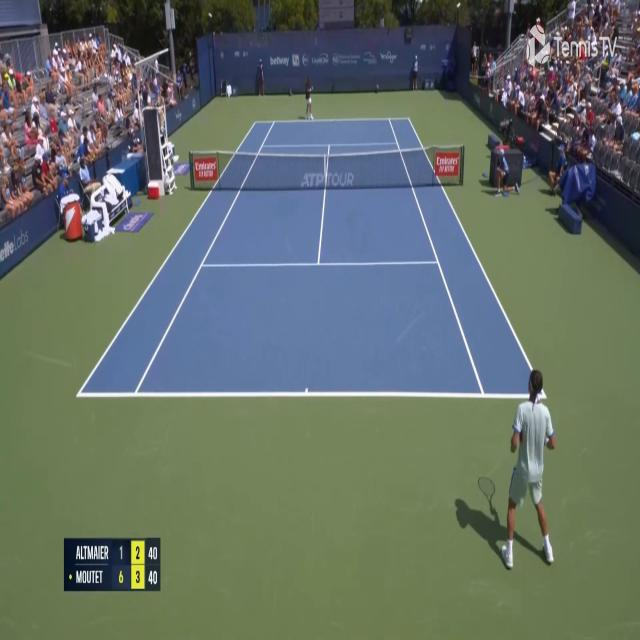tennis-player: (496, 370, 560, 572), (304, 74, 314, 122)
